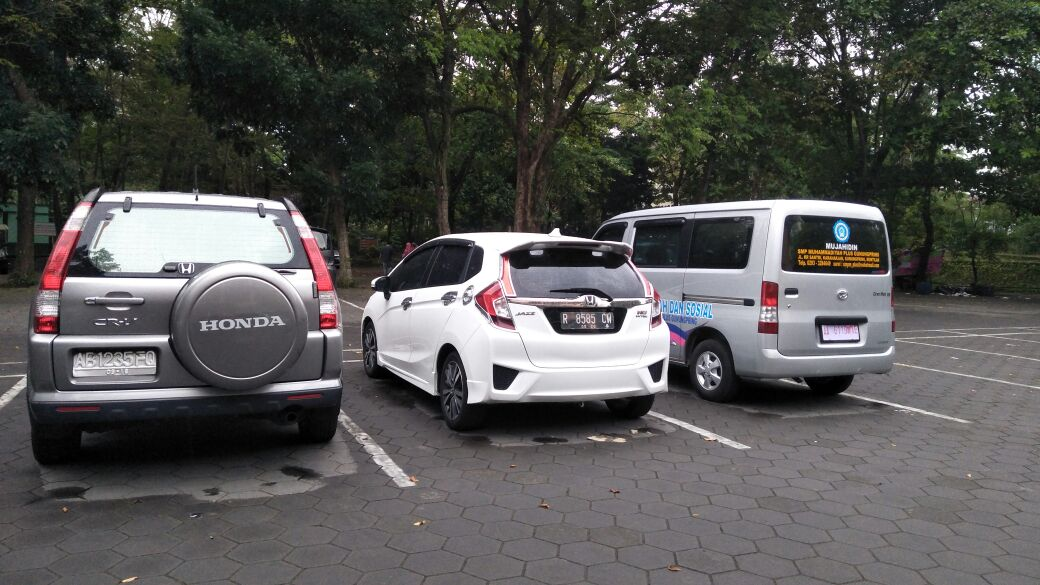plate: (72, 348, 158, 381), (559, 310, 617, 331), (819, 321, 860, 342)
